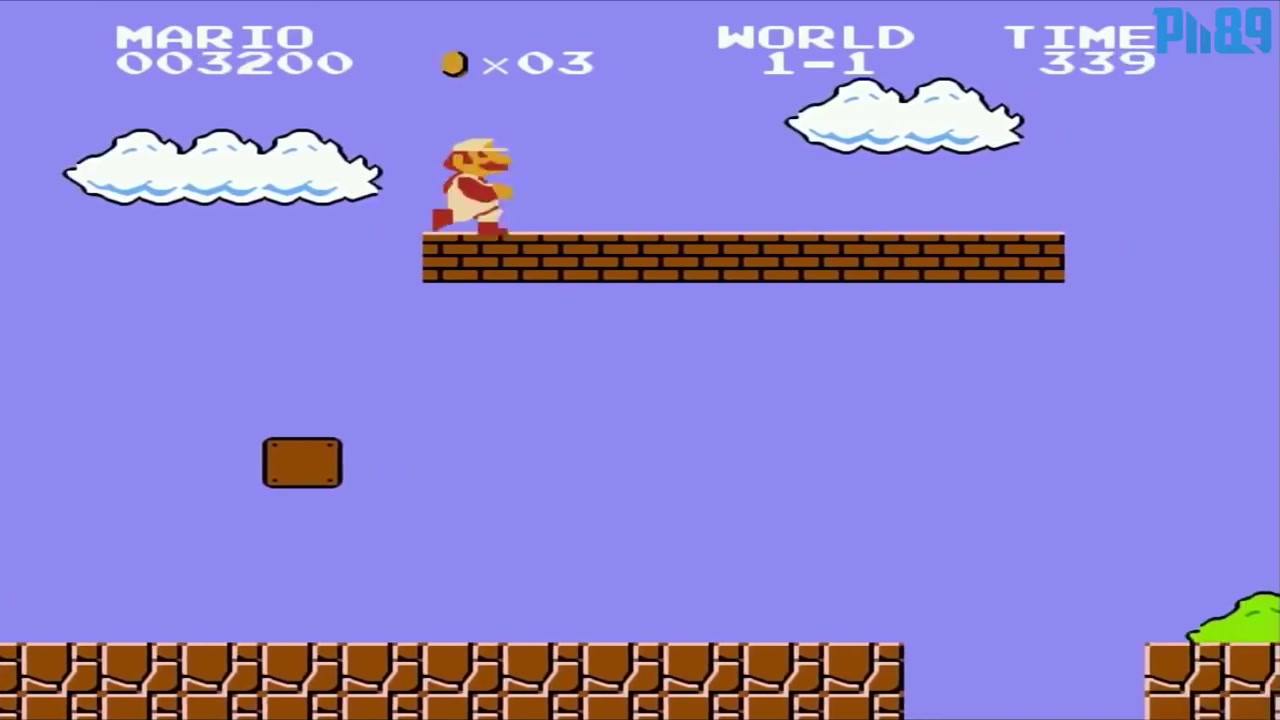mario: (426, 135, 519, 241)
